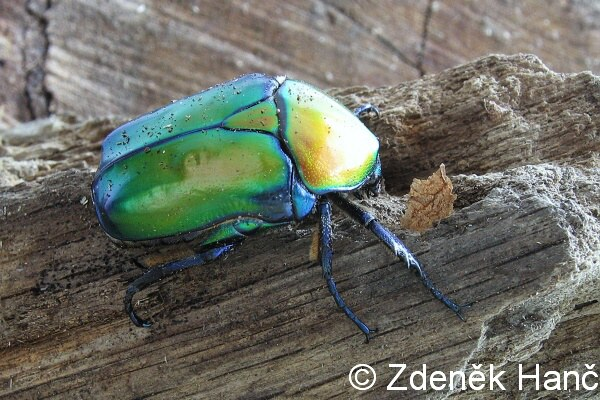Protaetia_speciosa_jousselini: (83, 61, 470, 354)
